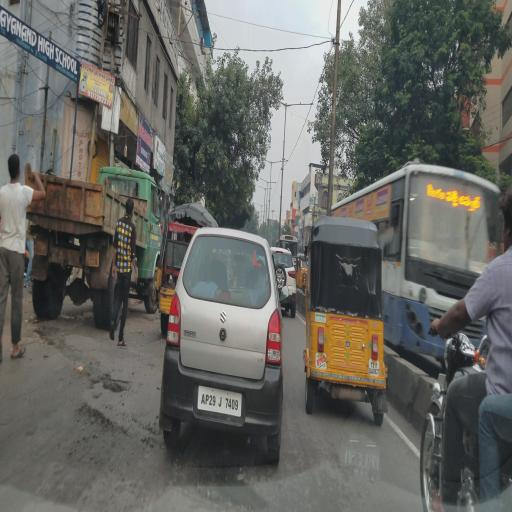street_light_0: (286, 95, 322, 123), (272, 150, 290, 172), (254, 172, 270, 184), (268, 176, 280, 190)
